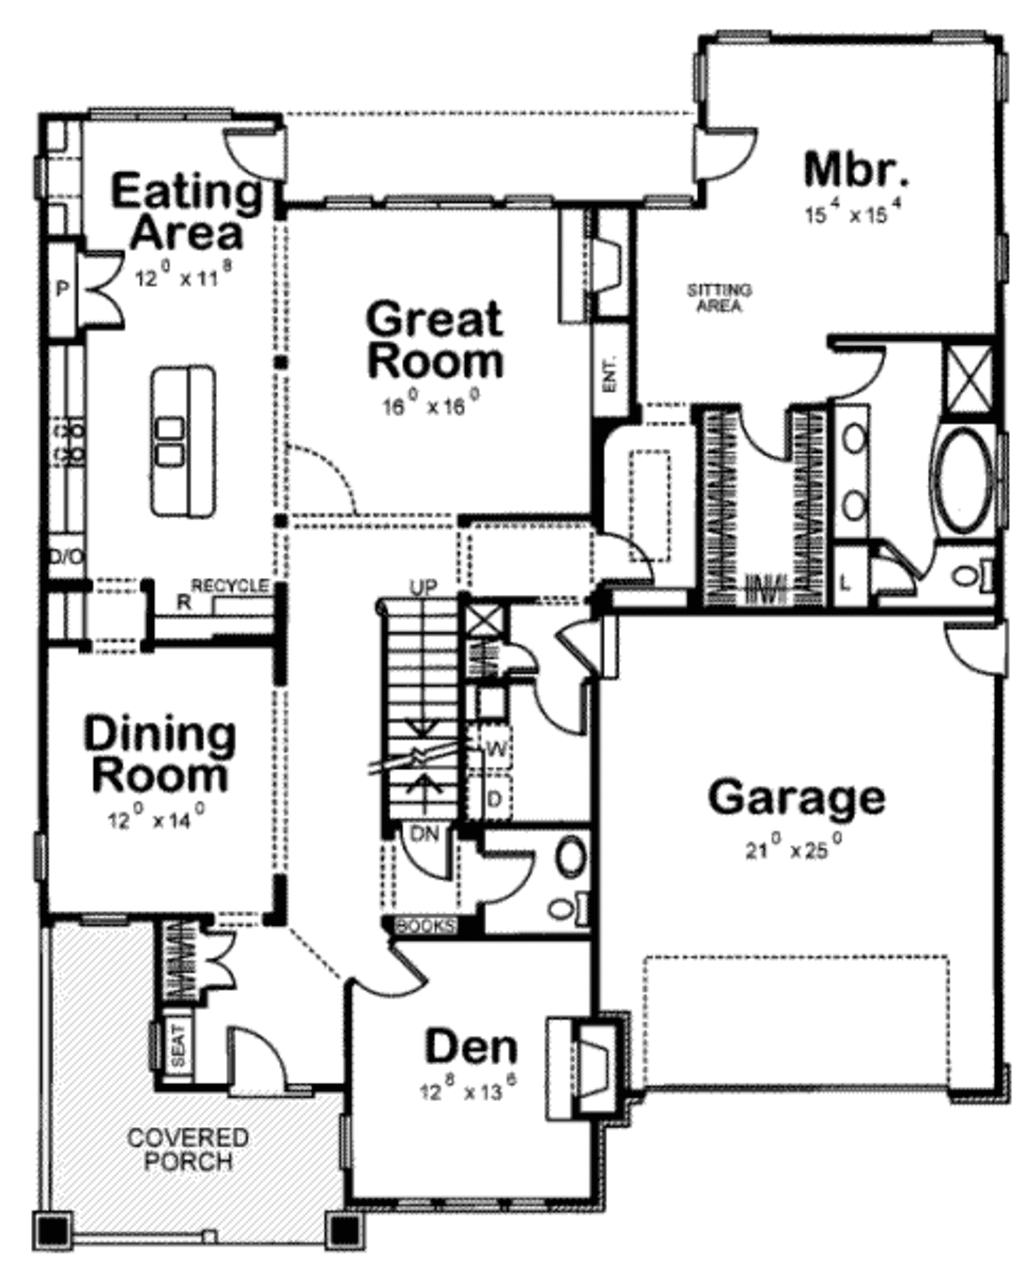door: (931, 607, 1024, 687), (220, 1024, 306, 1097), (347, 932, 443, 997), (73, 242, 135, 340), (551, 619, 639, 683), (680, 124, 773, 181), (459, 840, 539, 903), (820, 334, 892, 403), (216, 128, 308, 181), (726, 407, 798, 470), (528, 673, 590, 740), (590, 532, 659, 587), (880, 526, 937, 585), (182, 930, 237, 991), (400, 822, 455, 881), (865, 554, 922, 605), (502, 642, 539, 675)
kitchen_bar: (141, 366, 228, 528)
large_sink: (951, 546, 1008, 603), (545, 883, 592, 928)
small_sink: (839, 409, 877, 542), (539, 826, 594, 891)
stairs: (371, 585, 469, 828)
tub: (933, 422, 1004, 554)
twin_sink: (152, 411, 197, 491)
window: (318, 193, 557, 211), (75, 101, 243, 124), (328, 1105, 365, 1173), (931, 24, 1000, 52), (718, 24, 771, 54)
